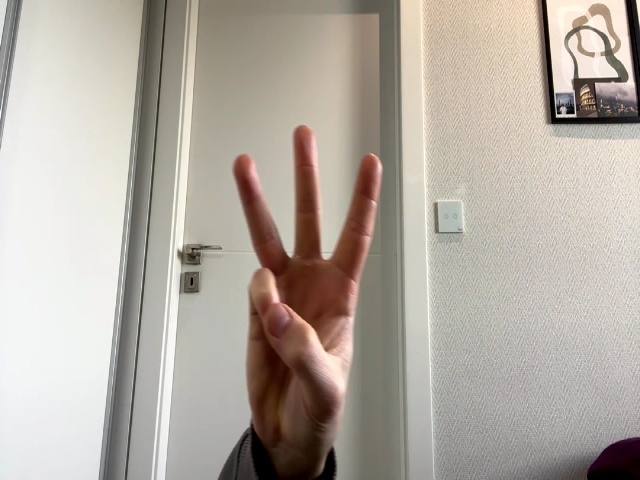W: (234, 126, 383, 442)
